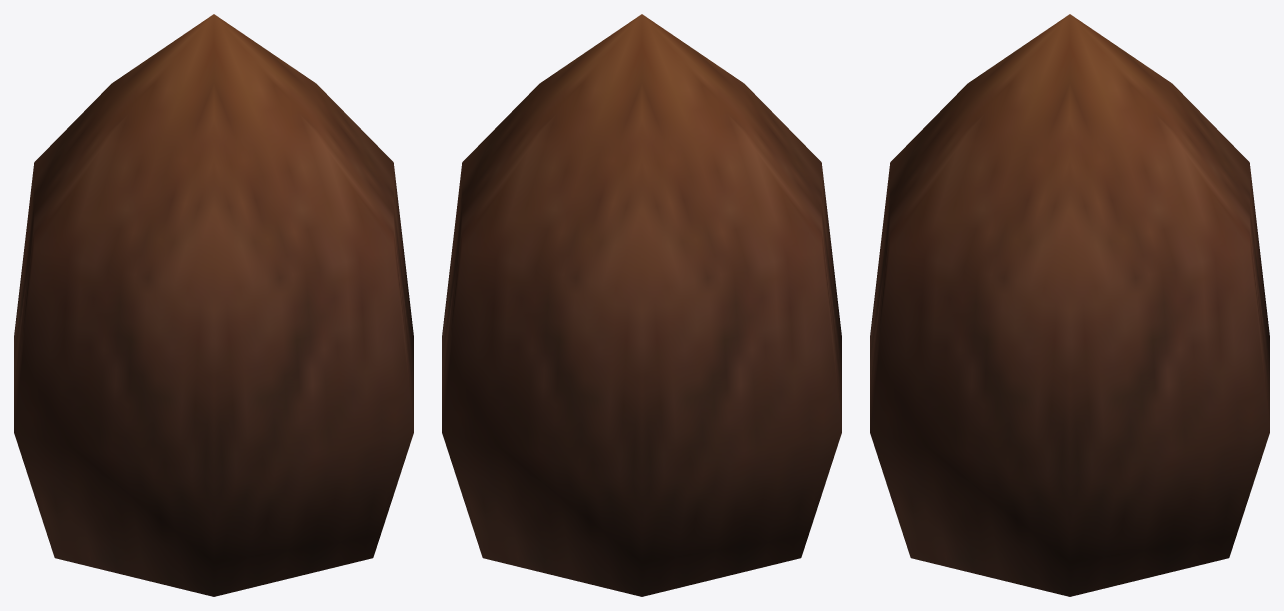
The model's file is Coconut_01.fbx.
The picture shows the model from 3 angles, left to right: view 1: azimuth 30°, elevation 25°; view 2: azimuth 150°, elevation 25°; view 3: azimuth 270°, elevation 25°; orthographic projection.
Visible parts, largest first — view 1: Coconut_01; view 2: Coconut_01; view 3: Coconut_01.
Part boxes in pixels (x1,y1,x2,y2): Coconut_01: (14, 14, 413, 596); Coconut_01: (442, 14, 841, 596); Coconut_01: (870, 14, 1269, 596).
Size of the model in its own units: 5.95 by 8.06 by 5.15.
